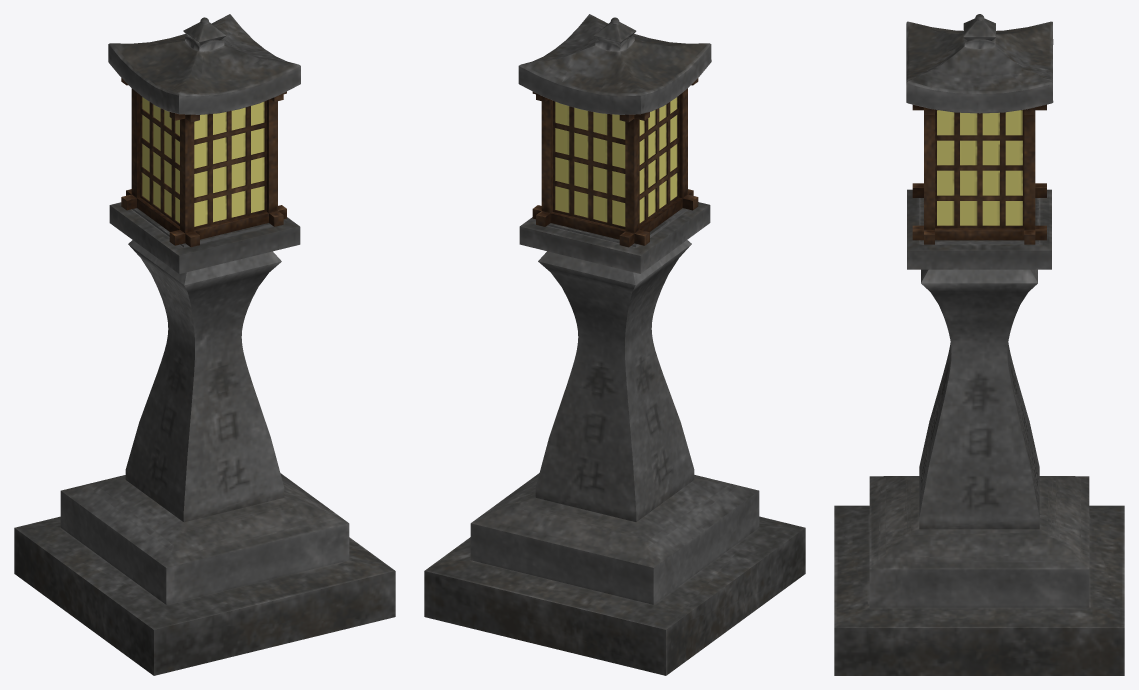
Rendered from stone_lantern.glb.
3 views of the same model, side by side, from view 1: azimuth 30°, elevation 25°; view 2: azimuth 150°, elevation 25°; view 3: azimuth 270°, elevation 25° (orthographic). The views are drawn at different scales.
Visible parts, largest first — view 1: mesh; view 2: mesh; view 3: mesh.
Boxes of the visible parts, left/top/right/bottom form: mesh: left=14, top=14, right=395, bottom=675; mesh: left=424, top=14, right=805, bottom=675; mesh: left=834, top=14, right=1124, bottom=675.
Size of the model in its own units: 0.5804 by 1.33 by 0.5804.
1 material, 1 textured.
